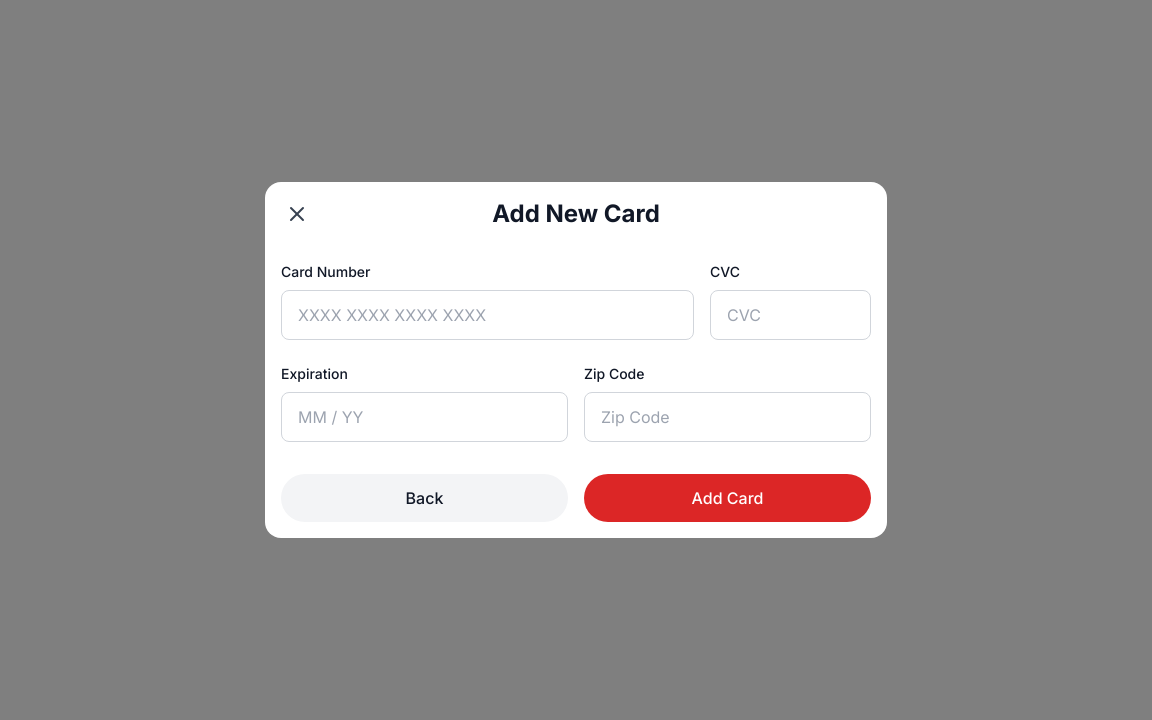
Test case: AddCardModal › should format expiration date as MM / YY
Type "1225" into the field with placeholder "MM / YY" at (424, 417), box left=281, top=392, right=568, bottom=442
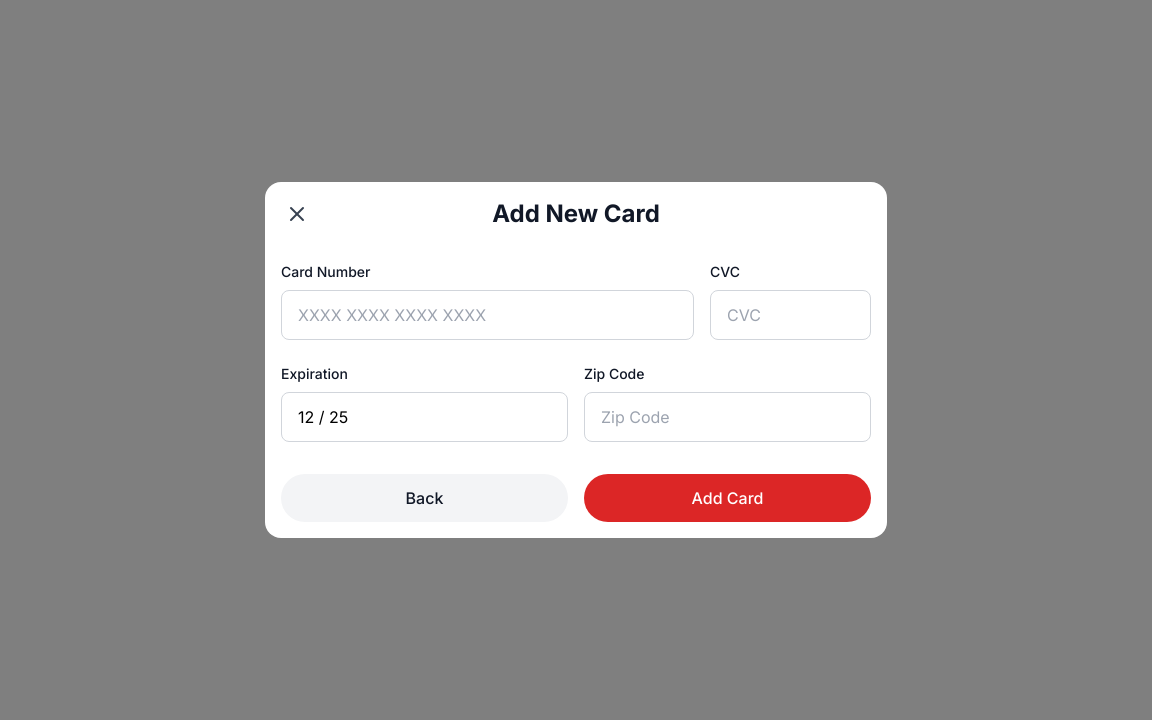
Now the field with placeholder "MM / YY" holds "12 / 25", box left=281, top=392, right=568, bottom=442
